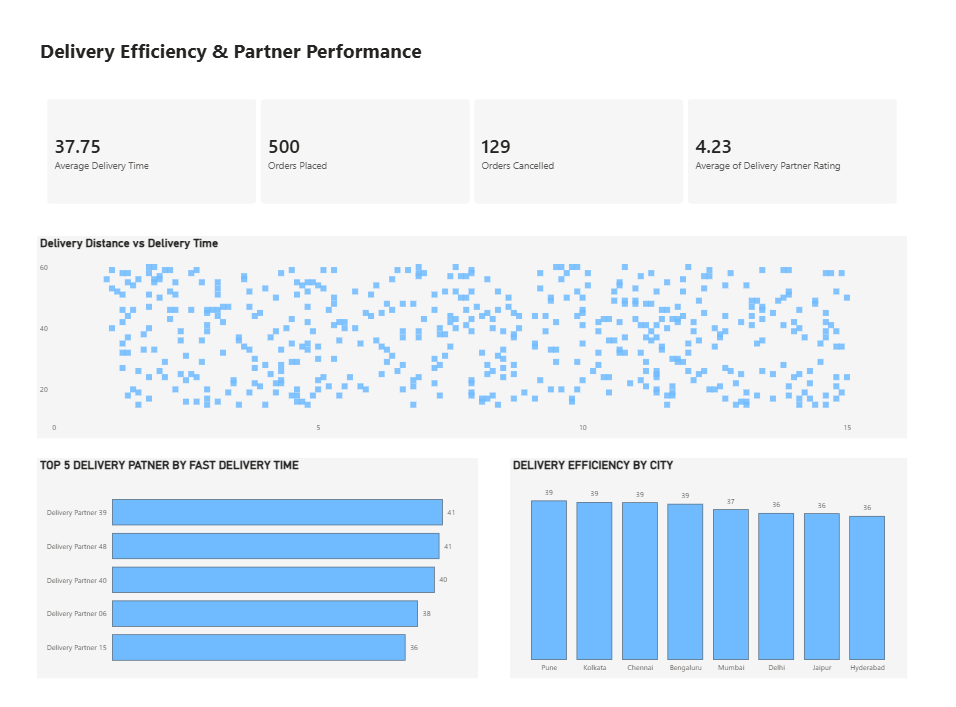

The page's visual inventory and layout, read from the dashboard file:
{"tool":"powerbi","page":{"name":"Delivery Performance","canvas":[1600,1200],"ordinal":2},"visuals":[{"type":"cardVisual","fields":{"Data":["Avg(Food_Delivery_Orders.Delivery_Time_Minutes)","Food_Delivery_Orders.Total Orders","Food_Delivery_Orders.Orders Cancelled","Avg(Food_Delivery_Orders.Delivery_Partner_Rating)"]},"box":[65,156.7,1450,208.3],"z":1000},{"type":"barChart","title":"TOP 5 DELIVERY PATNER BY FAST DELIVERY TIME","fields":{"Category":["Food_Delivery_Orders.Delivery_Partner"],"Y":["Avg(Food_Delivery_Orders.Delivery_Time_Minutes)"]},"box":[65,771.7,735,366.7],"z":2000},{"type":"scatterChart","title":"Delivery Distance vs Delivery Time","fields":{"X":["Sum(Food_Delivery_Orders.Distance_KM)"],"Y":["Sum(Food_Delivery_Orders.Delivery_Time_Minutes)"]},"box":[65,401.7,1450,336.7],"z":3000},{"type":"columnChart","title":"DELIVERY EFFICIENCY BY CITY","fields":{"Category":["Food_Delivery_Orders.Customer_City"],"Y":["Avg(Food_Delivery_Orders.Delivery_Time_Minutes)"]},"box":[853.3,771.7,661.7,366.7],"z":4000},{"type":"textbox","box":[65,65,648.3,65],"z":5000}]}

Visuals, with their boxes in screenshot pixels (x1, y1, x2, y2), scaled from the page's 1600x1200 canvas onto the 956x707 screenshot:
cardVisual - Avg(Food_Delivery_Orders.Delivery_Time_Minutes) x Food_Delivery_Orders.Total Orders: <region>39, 92, 905, 215</region>
"TOP 5 DELIVERY PATNER BY FAST DELIVERY TIME" barChart: <region>39, 455, 478, 671</region>
"Delivery Distance vs Delivery Time" scatterChart: <region>39, 237, 905, 435</region>
"DELIVERY EFFICIENCY BY CITY" columnChart: <region>510, 455, 905, 671</region>
textbox: <region>39, 38, 426, 77</region>
